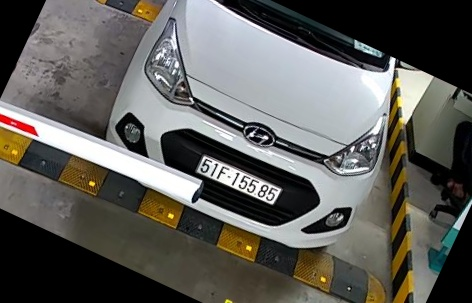plate: (190, 148, 284, 210)
